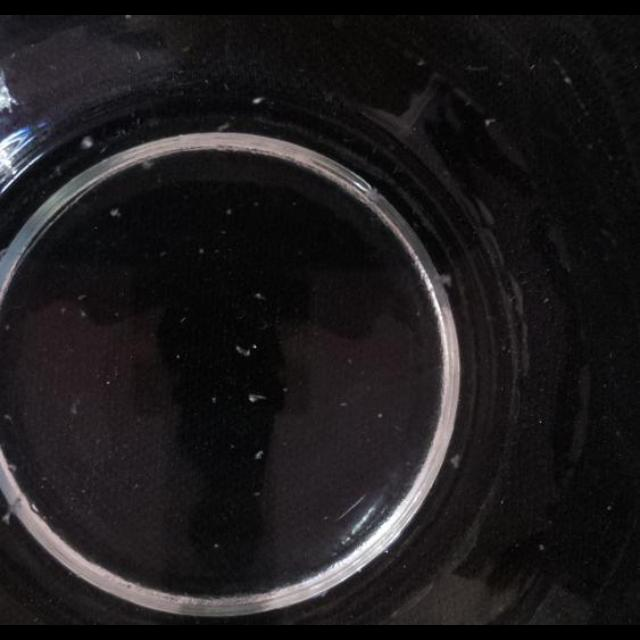Fibre: (248, 392, 266, 402)
microbeads: (450, 454, 460, 468), (253, 292, 265, 302), (110, 207, 122, 217), (254, 450, 264, 460), (79, 308, 87, 318), (77, 293, 86, 301), (486, 118, 496, 125), (198, 247, 205, 255), (225, 208, 232, 216), (210, 396, 216, 404), (212, 543, 220, 549), (340, 402, 348, 408), (376, 412, 384, 418), (282, 386, 288, 394), (175, 352, 181, 360), (253, 491, 260, 497), (539, 544, 545, 550), (252, 344, 258, 350), (544, 296, 550, 302), (607, 505, 613, 511), (104, 380, 110, 386)
